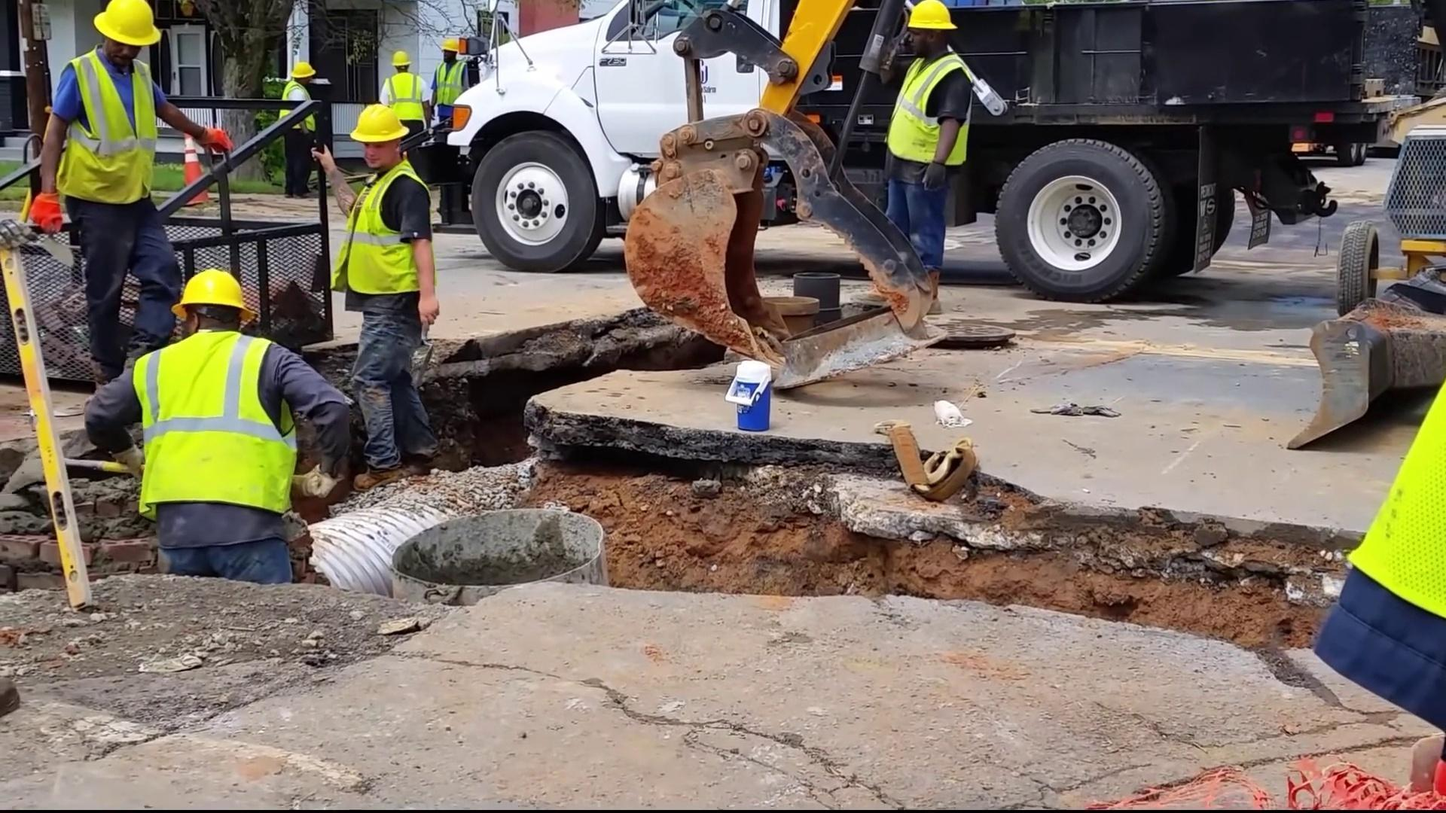apron: (199, 117, 239, 162), (24, 191, 63, 236), (299, 463, 340, 501), (918, 153, 954, 193), (0, 216, 39, 251), (107, 447, 143, 475)
